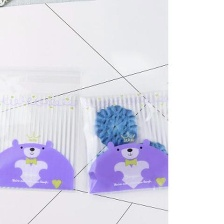snack: (0, 59, 85, 196), (74, 83, 168, 199)
